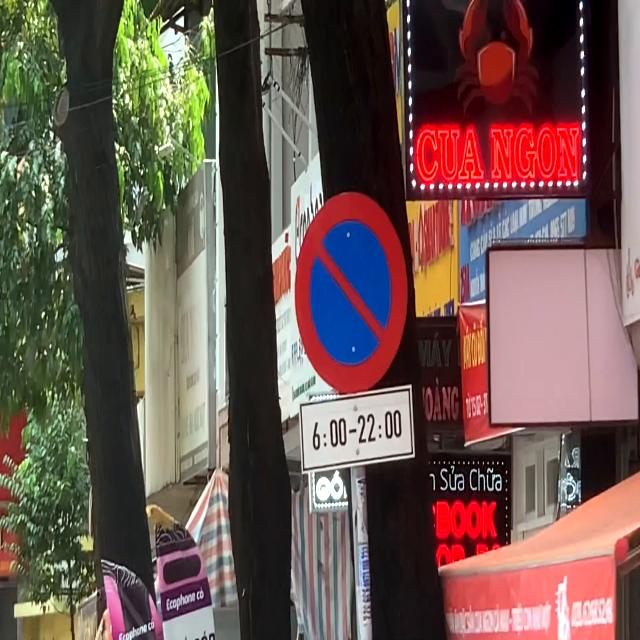P.131a: (294, 190, 408, 394)
